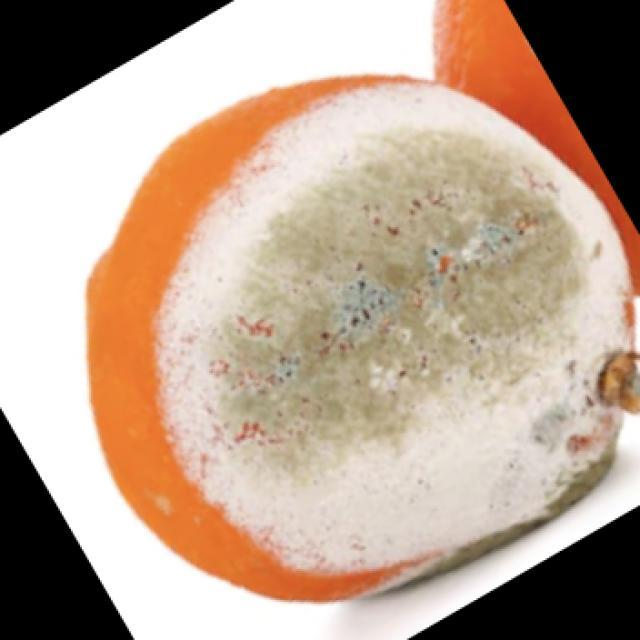sangat-busuk: (88, 76, 639, 600), (155, 81, 633, 571)
